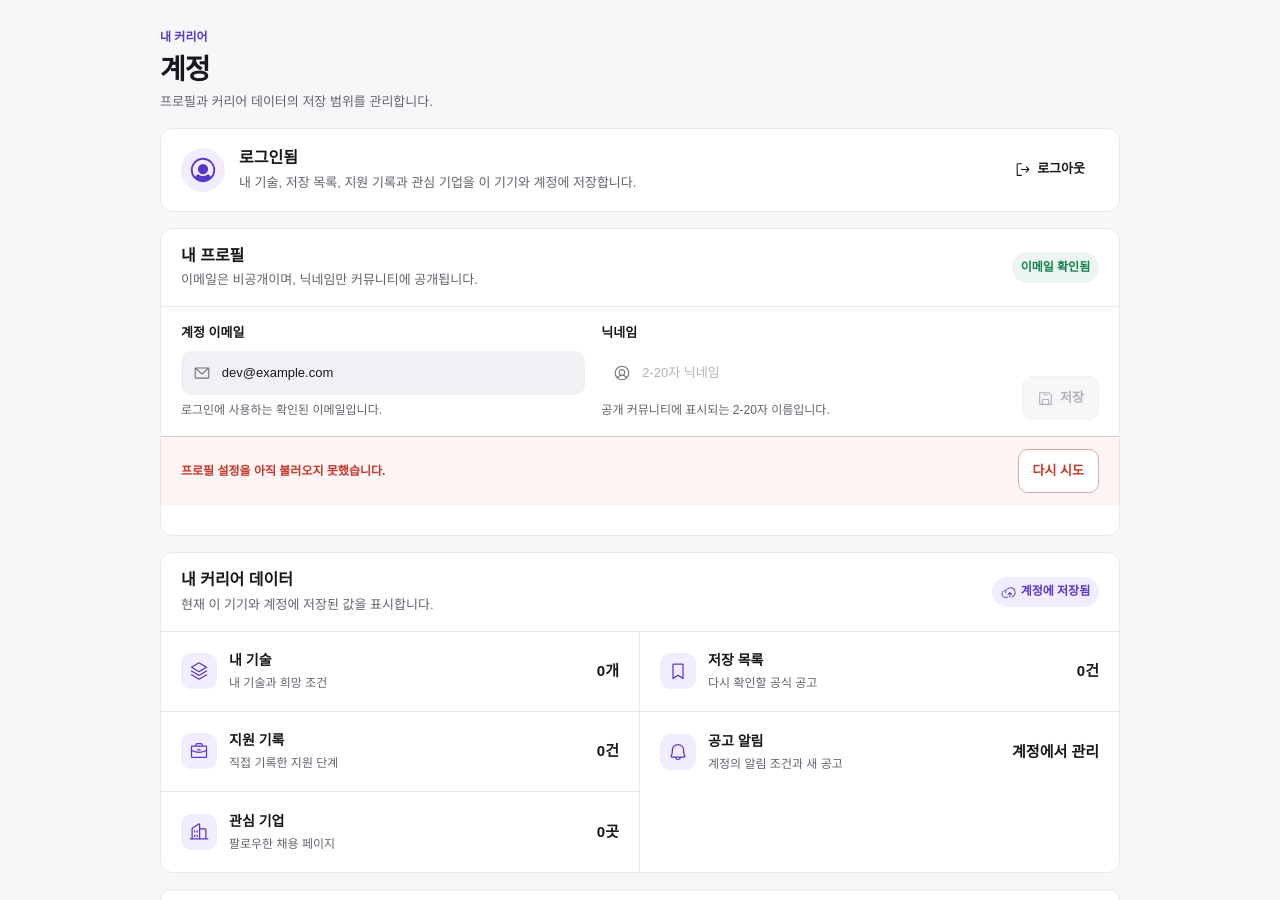
Test: AccountOverview › offers a retry when the profile cannot be loaded
Expected: the text "프로필 설정을 아직 불러오지 못했습니다." is shown, [181,462,385,481]
Click the button "다시 시도": (1058, 471) [1018,449,1099,493]
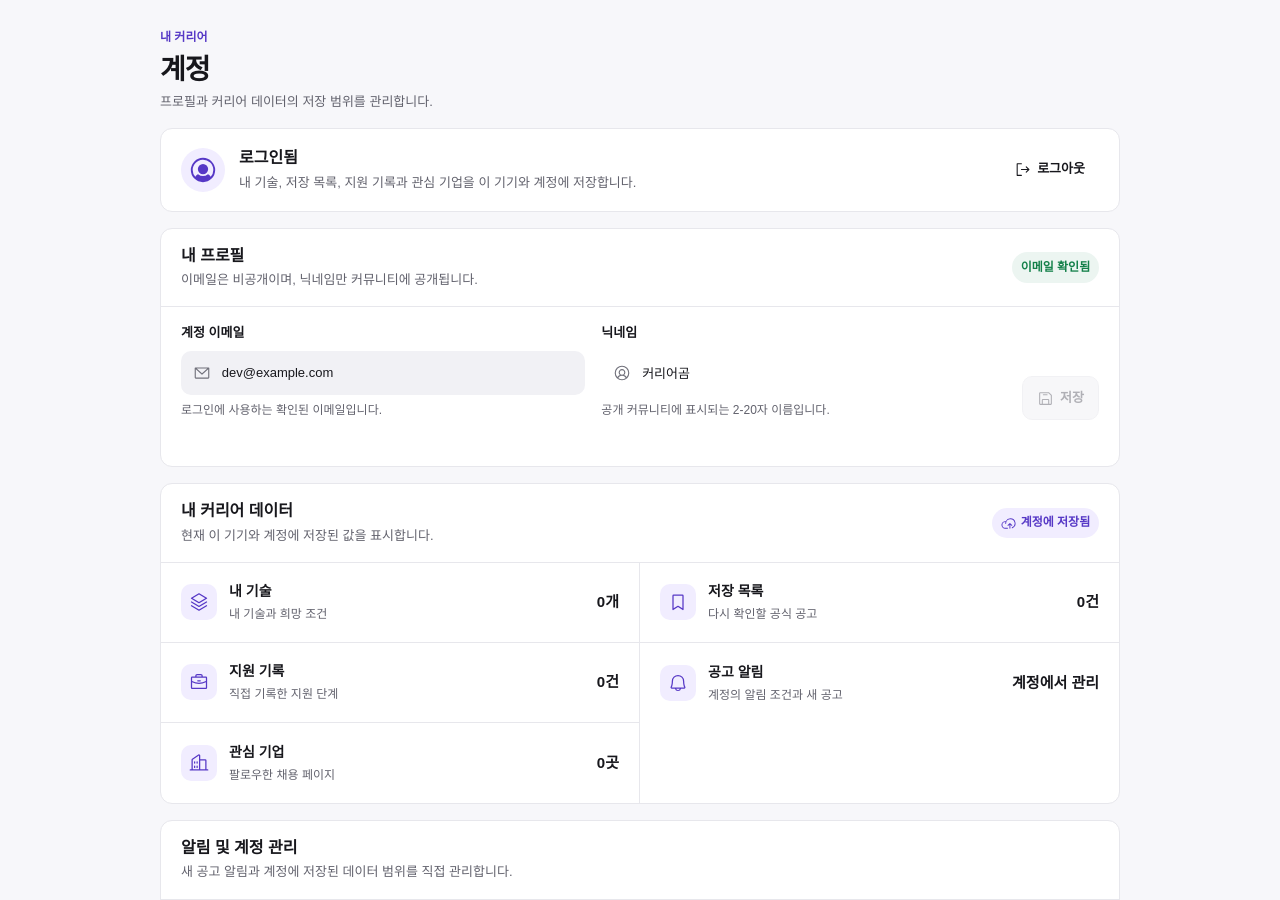
Expected: the field labelled "닉네임" holds "커리어곰", [640,351,994,395]
